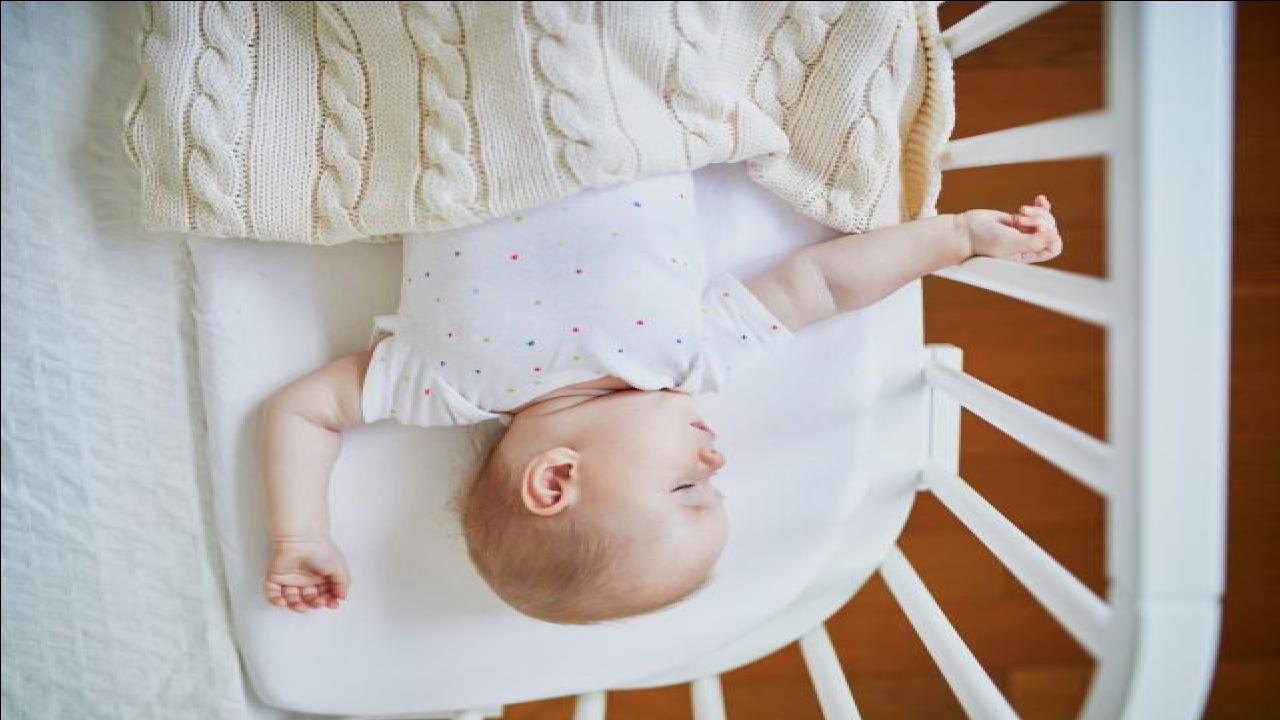hand: (966, 194, 1066, 262), (262, 542, 352, 613)
